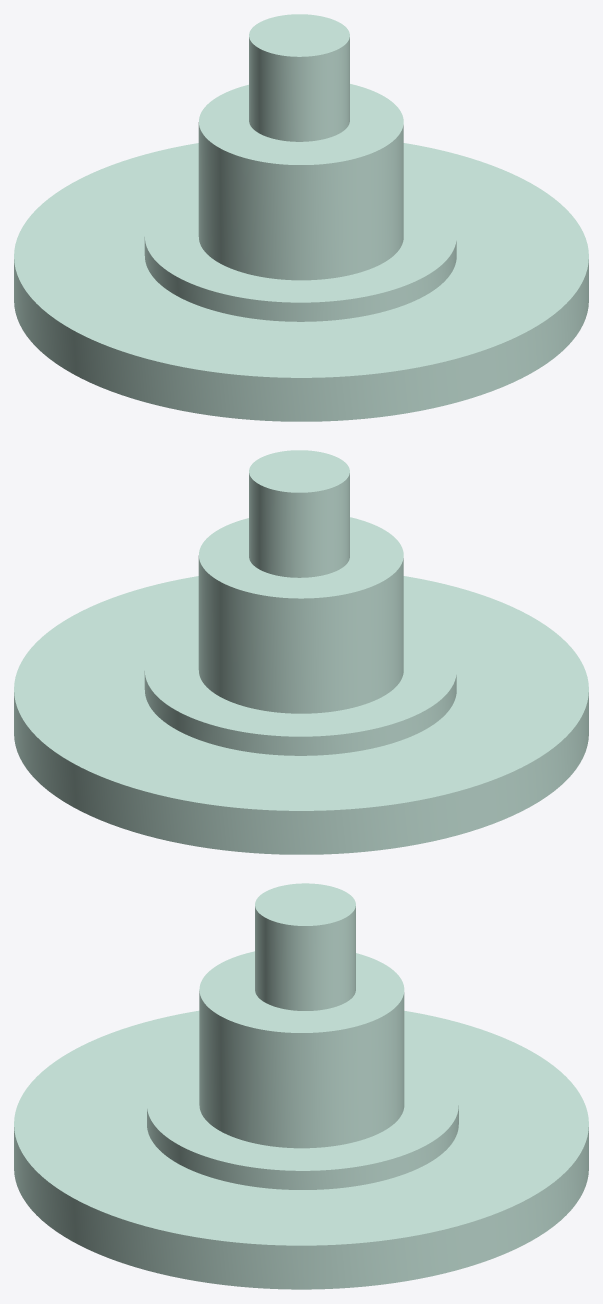
File: expected.gltf
3 views of the same model, one above another, from view 1: azimuth 30°, elevation 25°; view 2: azimuth 150°, elevation 25°; view 3: azimuth 270°, elevation 25° (orthographic).
Parts seen in each view (by area): view 1: Renderer Node; view 2: Renderer Node; view 3: Renderer Node.
Boxes of the visible parts, x1,y1,x2,y2 form: Renderer Node: (14, 14, 588, 421); Renderer Node: (14, 450, 588, 854); Renderer Node: (14, 883, 588, 1289).
Bounding box in the file's own units: 1.48 × 0.75 × 1.48.
